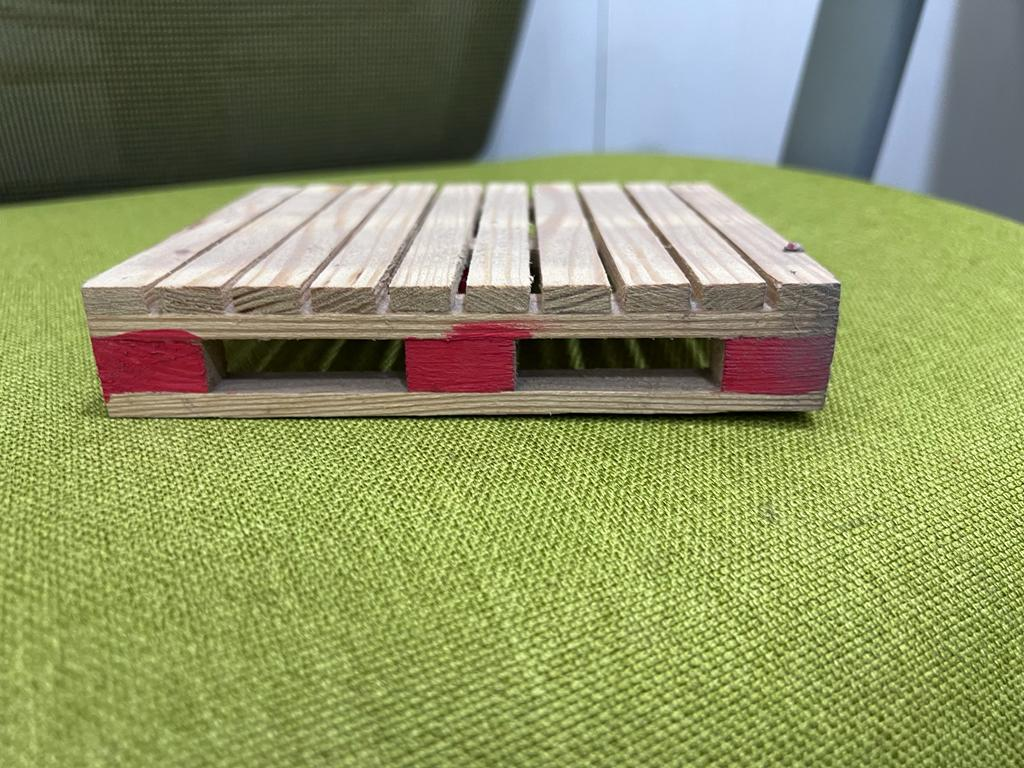pallet: (62, 142, 859, 426)
